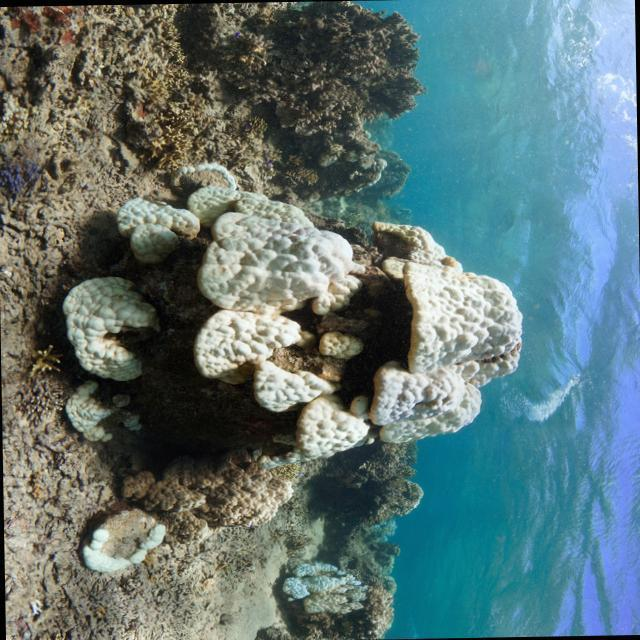Bleached Coral: (30, 182, 537, 461), (270, 558, 366, 597)
Dead Coral: (208, 0, 465, 172), (307, 454, 433, 525)
